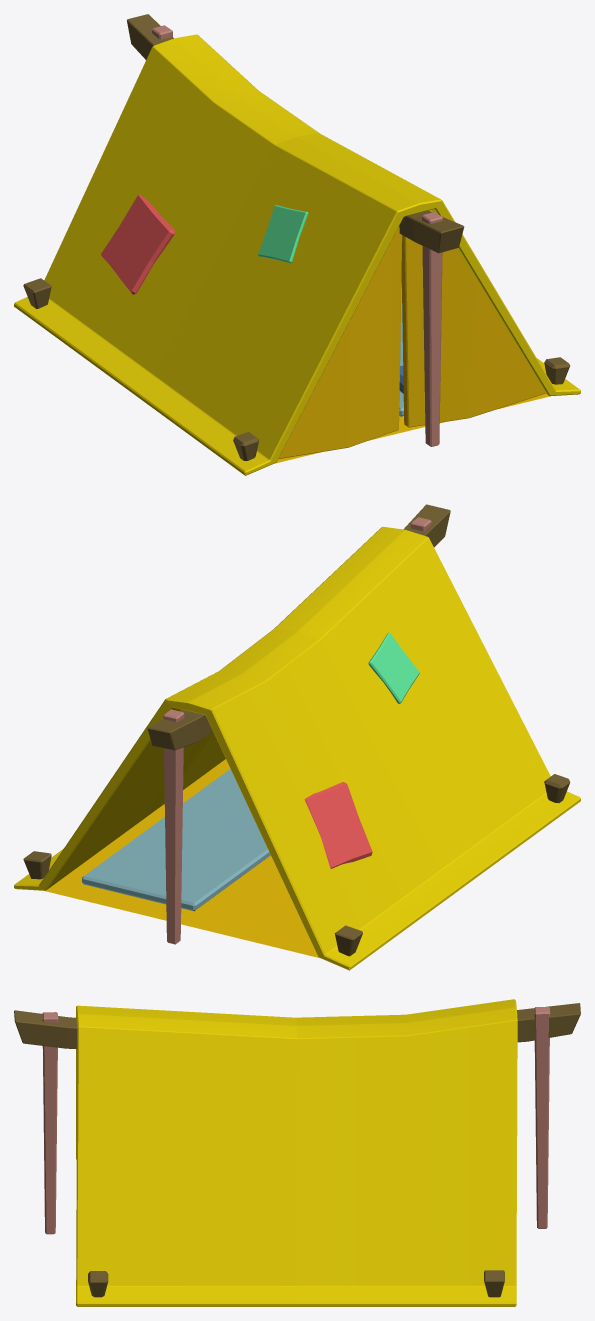
Rendered from tent_v1.fbx.
The picture shows the model from 3 angles, top to bottom: view 1: azimuth 30°, elevation 25°; view 2: azimuth 150°, elevation 25°; view 3: azimuth 270°, elevation 25°; orthographic projection. The views are drawn at different scales.
Parts seen in each view (by area): view 1: tent_cloth, tent_flaps, tall_stakes, patch_1, main_pole, patch_2, short_back_stakes, short_front_stakes; view 2: tent_cloth, bed, tent_floor, tall_stakes, patch_1, main_pole, patch_2, short_front_stakes; view 3: tent_cloth, tall_stakes, main_pole, short_front_stakes, short_back_stakes.
Part boxes in pixels (bbox=[...]): tent_cloth: bbox=[14, 34, 580, 475]; tent_flaps: bbox=[278, 210, 545, 458]; tall_stakes: bbox=[152, 25, 442, 446]; patch_1: bbox=[101, 194, 174, 294]; main_pole: bbox=[127, 14, 464, 253]; patch_2: bbox=[258, 205, 308, 263]; short_back_stakes: bbox=[233, 357, 570, 460]; short_front_stakes: bbox=[23, 278, 51, 308]; tent_cloth: bbox=[14, 526, 580, 970]; bed: bbox=[82, 769, 270, 911]; tent_floor: bbox=[44, 759, 319, 957]; tall_stakes: bbox=[163, 517, 431, 944]; patch_1: bbox=[304, 782, 372, 868]; main_pole: bbox=[147, 504, 450, 750]; patch_2: bbox=[368, 632, 419, 703]; short_front_stakes: bbox=[23, 851, 362, 956]; tent_cloth: bbox=[76, 999, 517, 1306]; tall_stakes: bbox=[42, 1007, 550, 1234]; main_pole: bbox=[14, 1003, 580, 1048]; short_front_stakes: bbox=[484, 1270, 504, 1297]; short_back_stakes: bbox=[88, 1271, 108, 1297].
Size of the model in its own units: 8.39 by 5.49 by 12.88.
